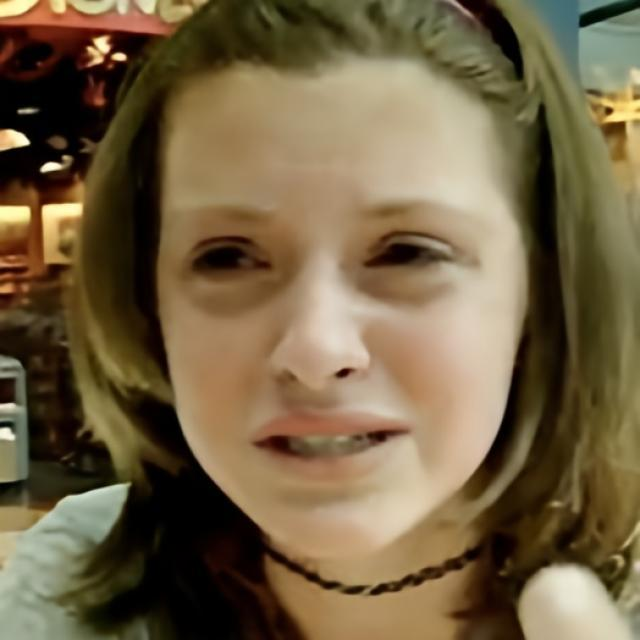disgust: (151, 51, 534, 566)
